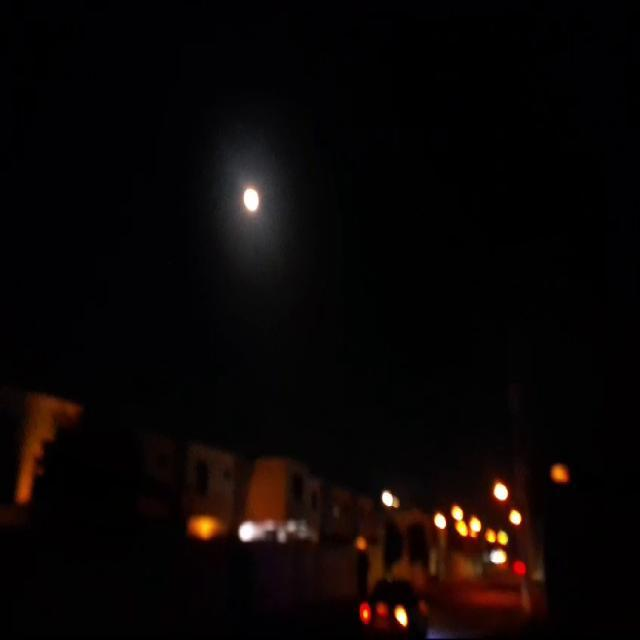moon: (240, 184, 260, 218)
